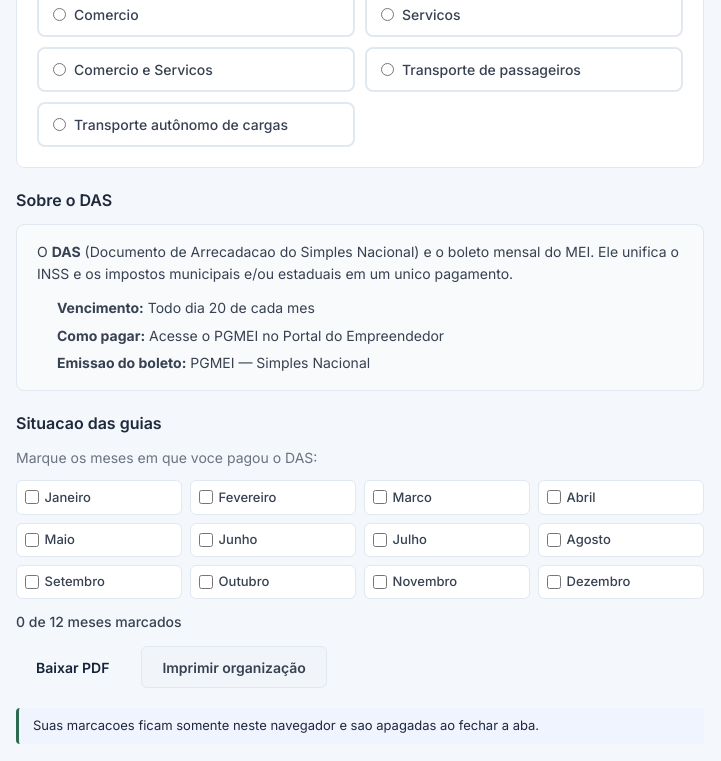
Test: MeiDasGuideTool › clicar em um mes o marca como pago
(page scrolled)
Click the checkbox labelled "Janeiro". click: [32, 497]
box: [25,490,39,504]
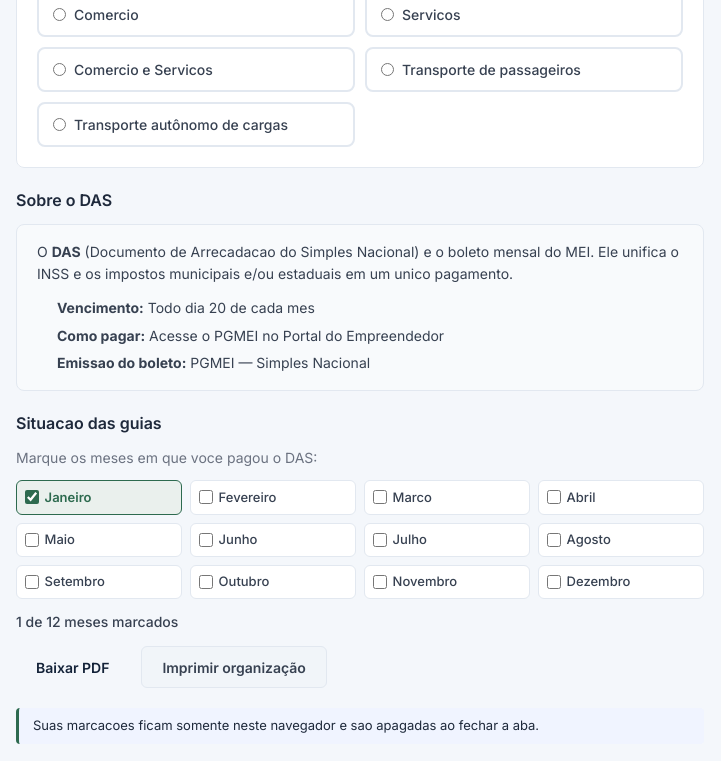
Expected: the text "1 de 12 meses marcados" is shown, [16,613,178,630]
